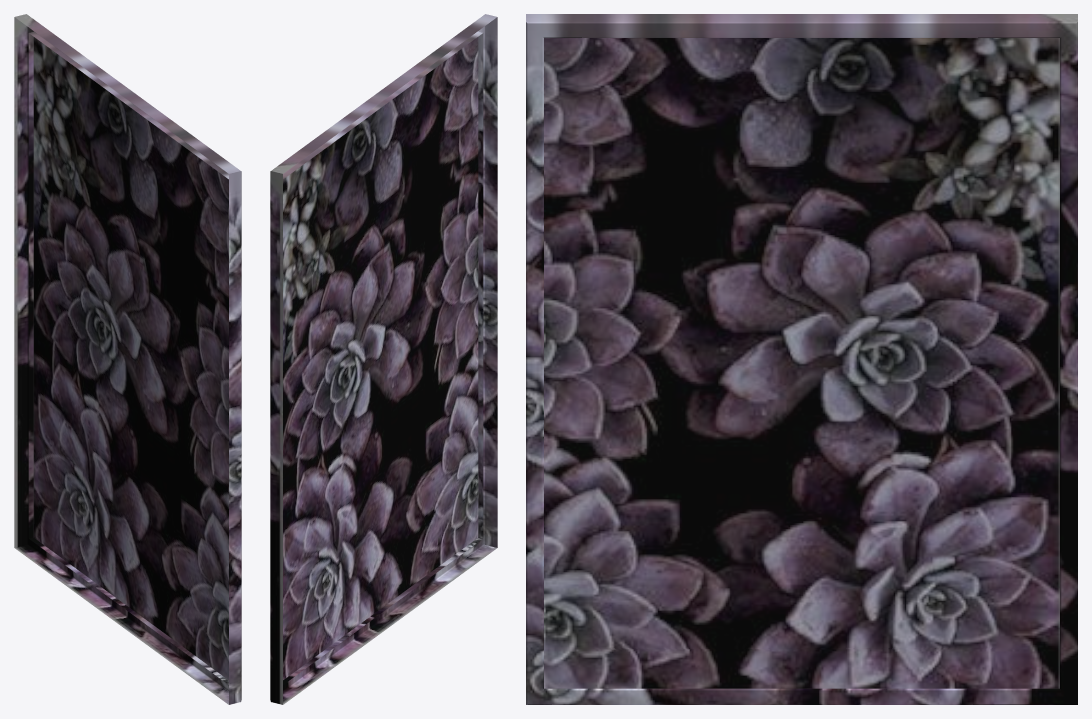
Rendered from WallPainting0026.obj.
3 views of the same model, side by side, from view 1: azimuth 30°, elevation 25°; view 2: azimuth 150°, elevation 25°; view 3: azimuth 270°, elevation 25° (orthographic). The views are drawn at different scales.
Bounding box in the file's own units: 0.011 × 0.418 × 0.306.
Materials: 1 (1 with a texture image).
